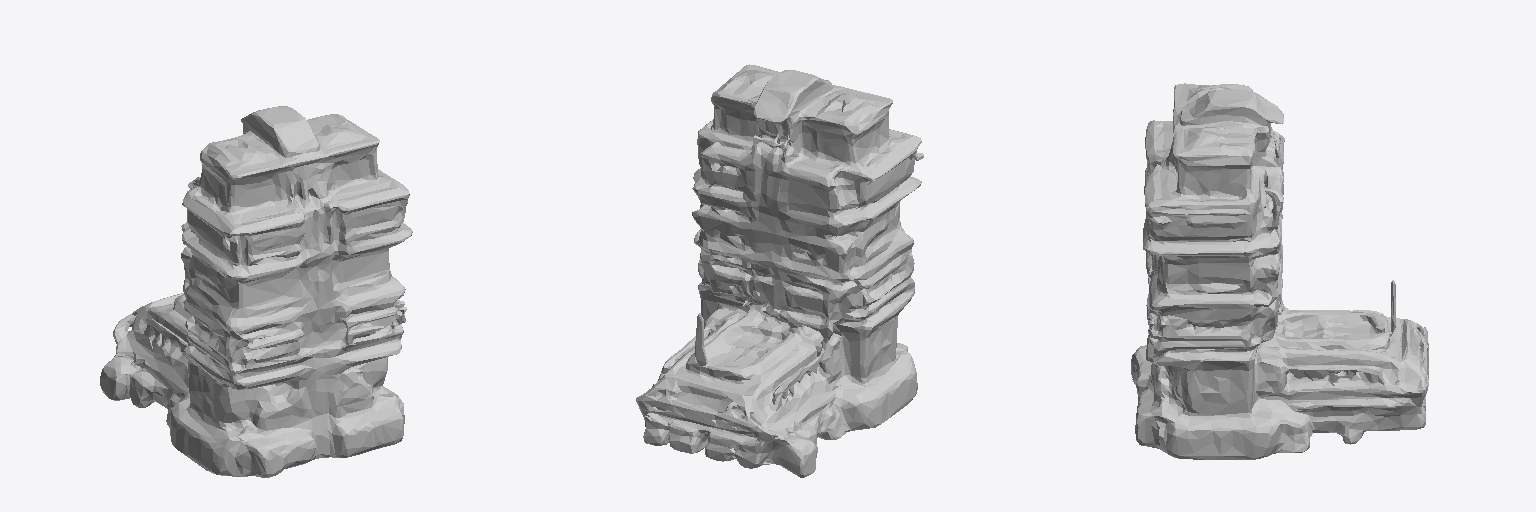
File: d942f4baeac4_sci_fi_residential_.obj
3 renders of one model, left to right at view 1: azimuth 30°, elevation 25°; view 2: azimuth 150°, elevation 25°; view 3: azimuth 270°, elevation 25°, orthographic.
Visible parts, largest first — view 1: mesh; view 2: mesh; view 3: mesh.
Part boxes in pixels (bbox=[...]): mesh: bbox=[100, 106, 412, 477]; mesh: bbox=[636, 64, 923, 477]; mesh: bbox=[1131, 83, 1428, 459].
Size of the model in its own units: 0.6413 by 0.9998 by 0.85.